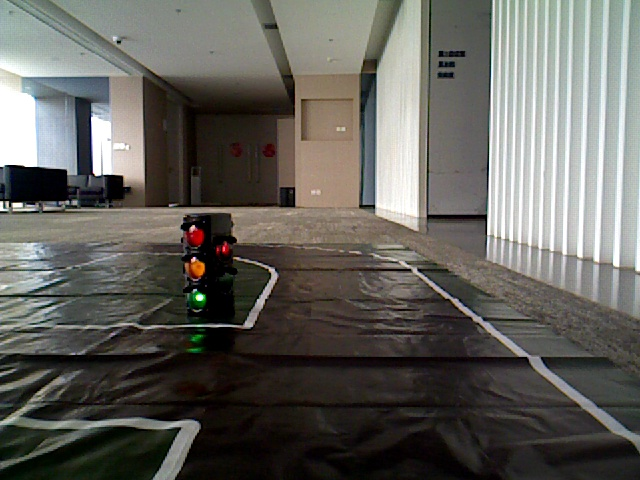green: (186, 219, 211, 302)
